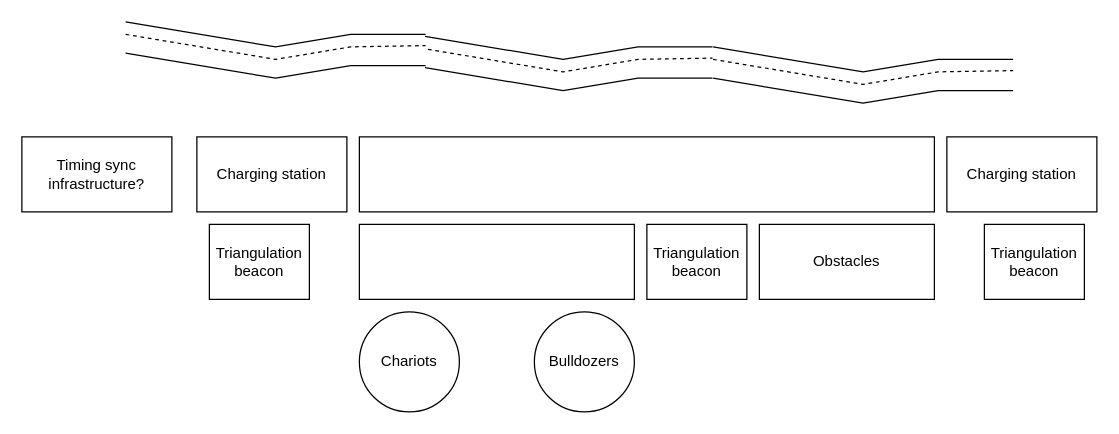
The diagram is 1119 pixels wide and 434 high, and some of its shapes have lost their labels. The shapes that lost their labels are listed below. From the top down, each one's centre as x and y in pixels, then its label:
At pixel 646 174: "The road".
At pixel 496 261: "The swarm".
